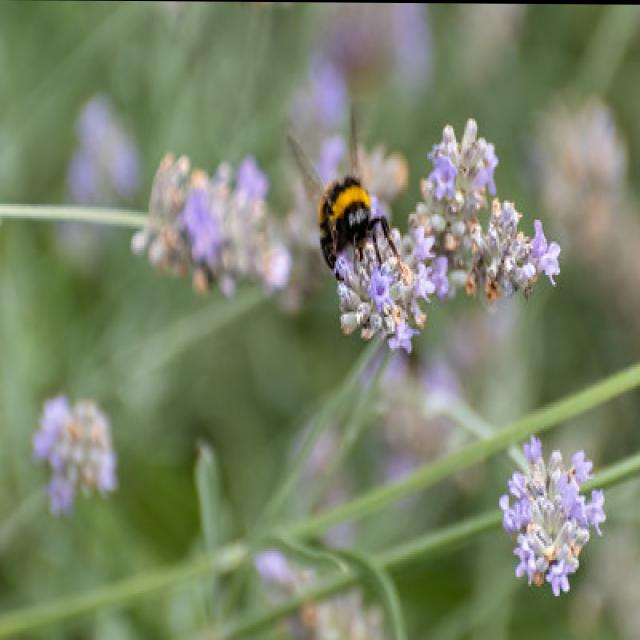Abeille: (268, 116, 406, 291)
